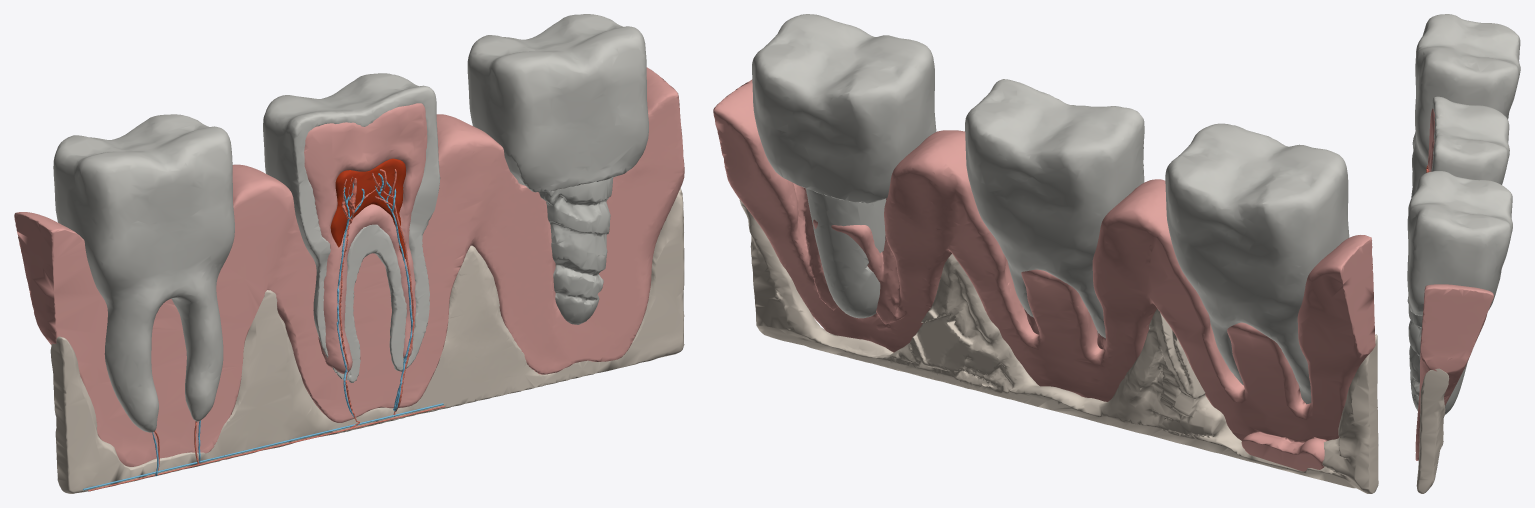
File: nuevo.glb
3 views of the same model, side by side, from view 1: azimuth 30°, elevation 25°; view 2: azimuth 150°, elevation 25°; view 3: azimuth 270°, elevation 25° (orthographic). The views are drawn at different scales.
Visible parts, largest first — view 1: Layer_2, Layer_1, Layer_11, Layer_6, Layer_5, Layer_7, Layer_10, Layer_9, Layer_8; view 2: Layer_2, Layer_11, Layer_1, Layer_5, Layer_6, Layer_10; view 3: Layer_6, Layer_1, Layer_2, Layer_5, Layer_11, Layer_10, Layer_7.
Part boxes in pixels (left/top/right/bottom): Layer_2: left=14, top=67, right=684, bottom=466; Layer_1: left=53, top=114, right=234, bottom=432; Layer_11: left=50, top=188, right=684, bottom=493; Layer_6: left=467, top=14, right=648, bottom=192; Layer_5: left=263, top=73, right=440, bottom=382; Layer_7: left=304, top=103, right=427, bottom=373; Layer_10: left=539, top=177, right=613, bottom=324; Layer_9: left=83, top=169, right=445, bottom=491; Layer_8: left=330, top=158, right=405, bottom=258; Layer_2: left=713, top=79, right=1375, bottom=471; Layer_11: left=739, top=199, right=1378, bottom=493; Layer_1: left=1165, top=123, right=1349, bottom=403; Layer_5: left=965, top=79, right=1144, bottom=338; Layer_6: left=752, top=14, right=936, bottom=203; Layer_10: left=806, top=188, right=886, bottom=318; Layer_6: left=1407, top=171, right=1512, bottom=315; Layer_1: left=1411, top=14, right=1520, bottom=197; Layer_2: left=1415, top=284, right=1493, bottom=460; Layer_5: left=1431, top=96, right=1509, bottom=184; Layer_11: left=1416, top=368, right=1449, bottom=493; Layer_10: left=1408, top=305, right=1467, bottom=414; Layer_7: left=1428, top=108, right=1434, bottom=171.
Bounding box in the file's own units: 2.87 × 1.44 × 0.5629.
